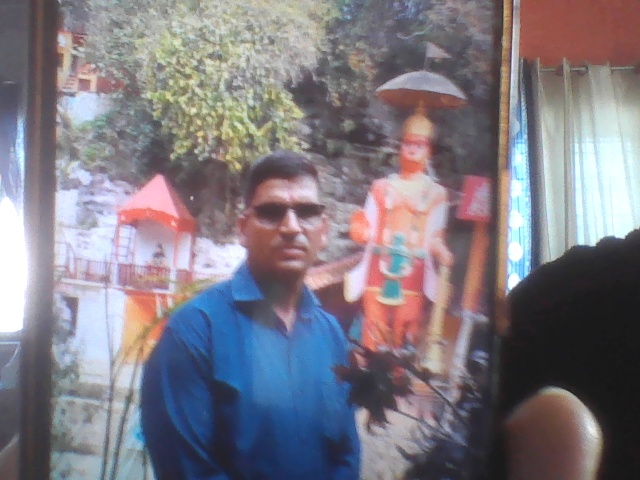fake: (224, 120, 351, 300)
